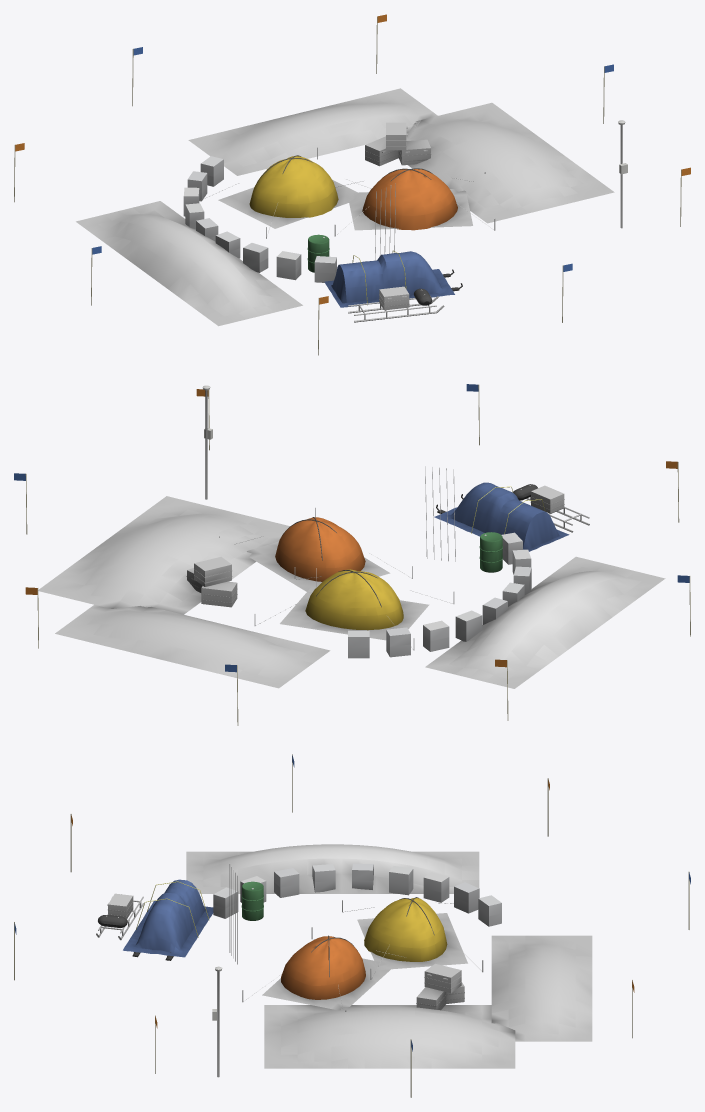
Rendered from glacier_camp.glb.
3 views of the same model, one above another, from view 1: azimuth 30°, elevation 25°; view 2: azimuth 150°, elevation 25°; view 3: azimuth 270°, elevation 25° (orthographic). The views are drawn at different scales.
Visible parts, largest first — view 1: main, detail; view 2: main, detail; view 3: main, detail.
Boxes of the visible parts, x1,y1,x2,y2 form: main: (76, 88, 627, 326); detail: (14, 14, 690, 355); main: (38, 385, 665, 688); detail: (14, 384, 690, 725); main: (96, 844, 592, 1077); detail: (14, 754, 690, 1097).
Size of the model in its own units: 18.09 by 3.18 by 17.79.
